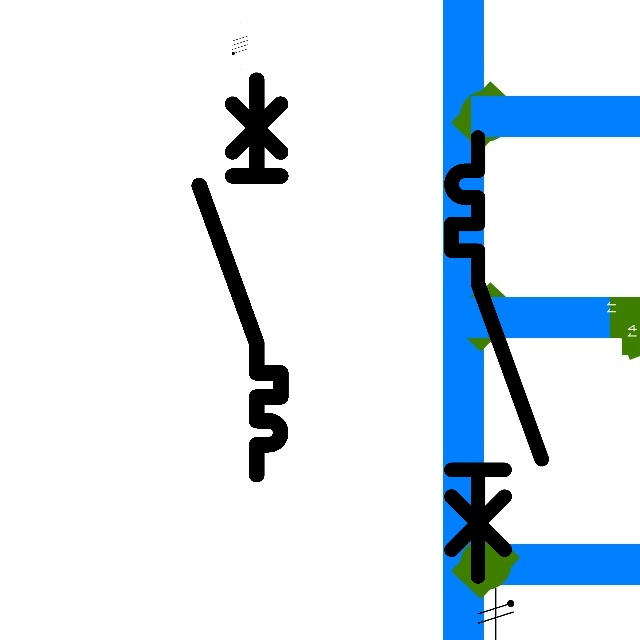interruptor_termomagnetico: (440, 126, 553, 588), (189, 69, 291, 484)
